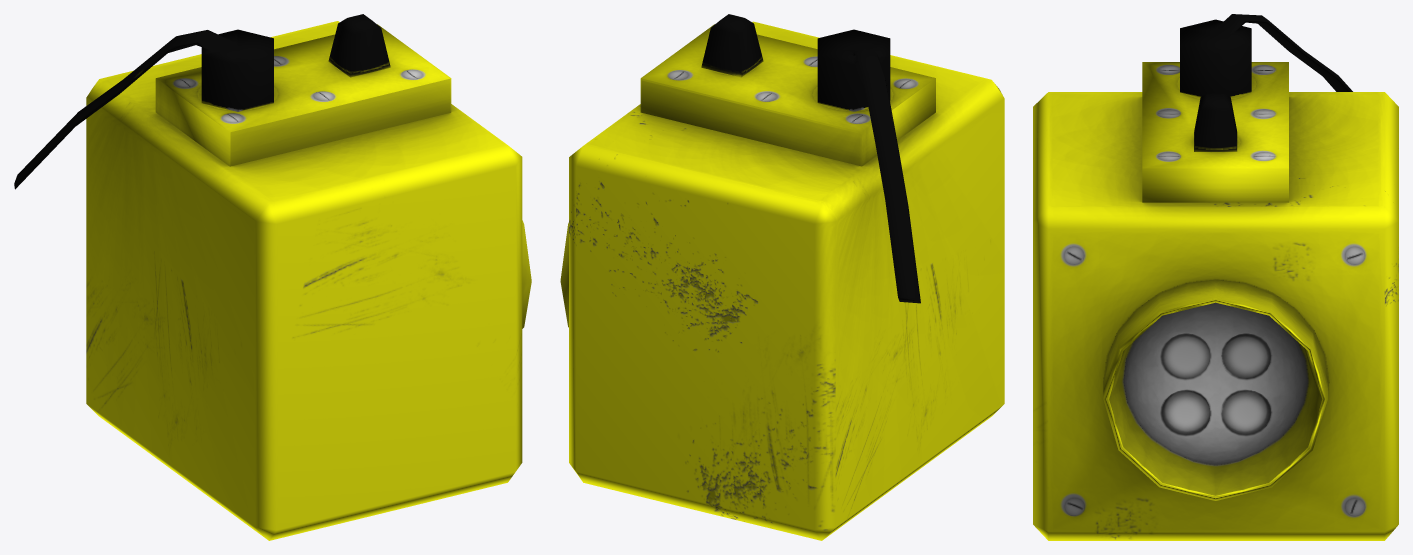
File: BattleLantern.fbx
3 renders of one model, left to right at view 1: azimuth 30°, elevation 25°; view 2: azimuth 150°, elevation 25°; view 3: azimuth 270°, elevation 25°, orthographic.
Visible parts, largest first — view 1: polySurface86; view 2: polySurface86; view 3: polySurface86.
Part boxes in pixels (box(x1,y1,x2,y2)): polySurface86: box(14, 14, 531, 540); polySurface86: box(560, 14, 1004, 540); polySurface86: box(1033, 14, 1398, 540).
Bounding box in the file's own units: 14.02 × 15.1 × 11.75.
